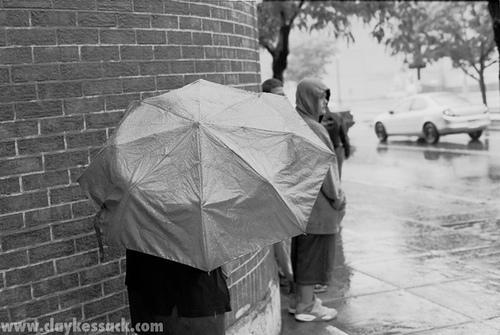car: (373, 91, 492, 147)
